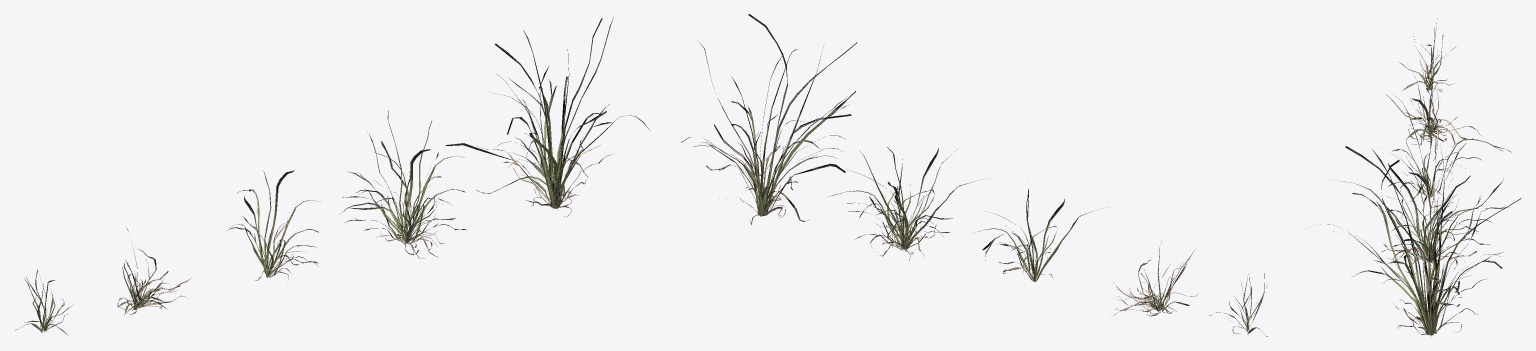
The model's file is grass_medium_02.glb.
3 renders of one model, left to right at view 1: azimuth 30°, elevation 25°; view 2: azimuth 150°, elevation 25°; view 3: azimuth 270°, elevation 25°, orthographic. The views are drawn at different scales.
Parts seen in each view (by area): view 1: grass_medium_02_a; view 2: grass_medium_02_a; view 3: grass_medium_02_a.
Part boxes in pixels (box(x1,y1,x2,y2)): grass_medium_02_a: box(15, 17, 649, 335); grass_medium_02_a: box(681, 14, 1267, 336); grass_medium_02_a: box(1327, 19, 1521, 336).
Bounding box in the file's own units: 1.31 × 0.4053 × 0.4326.
1 material, 1 textured.
